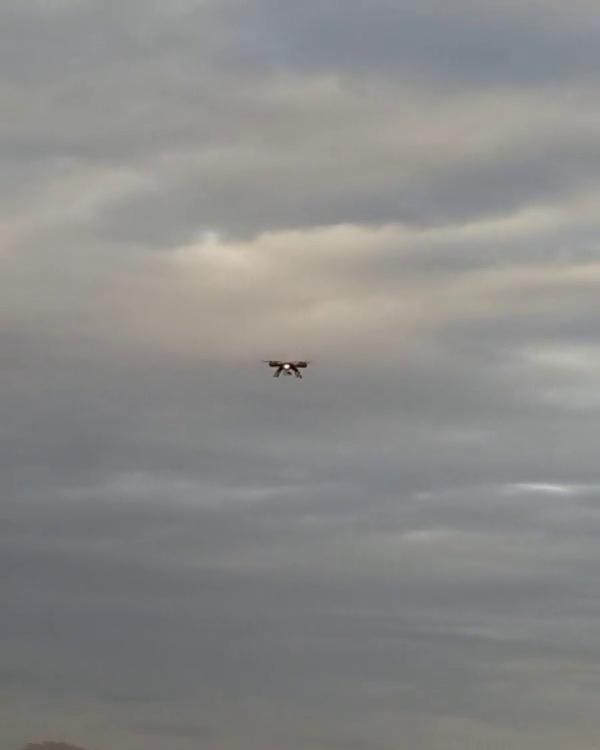drone: (260, 353, 310, 384)
